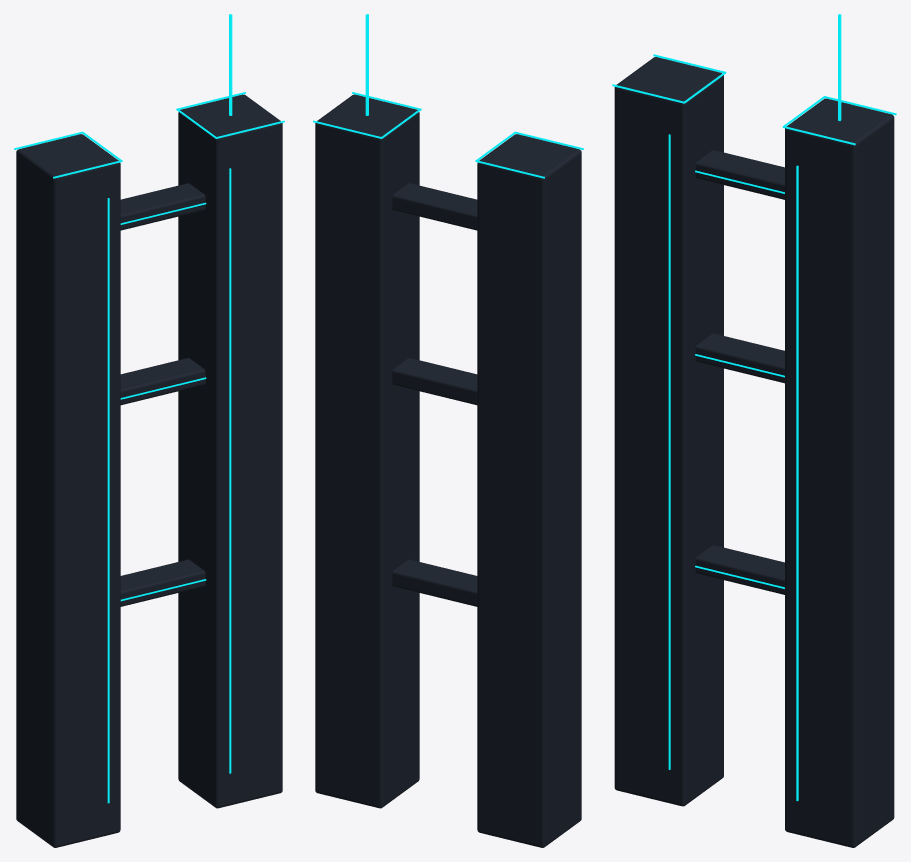
File: Twins.glb
The picture shows the model from 3 angles, left to right: view 1: azimuth 30°, elevation 25°; view 2: azimuth 150°, elevation 25°; view 3: azimuth 330°, elevation 25°; orthographic projection. The views are drawn at different scales.
Visible parts, largest first — view 1: Twin_-1, Twin_1, Twin_Bridge2, Twin_Bridge0, Twin_Bridge1, Twin_Spine-1, Twin_Spine1; view 2: Twin_-1, Twin_1, Twin_Bridge2, Twin_Bridge0, Twin_Bridge1; view 3: Twin_1, Twin_-1, Twin_Bridge2, Twin_Bridge1, Twin_Bridge0, Twin_Spine1, Twin_Spine-1.
Part boxes in pixels (<box>): Twin_-1: <box>16,134,120,847</box>; Twin_1: <box>178,94,282,808</box>; Twin_Bridge2: <box>120,183,205,230</box>; Twin_Bridge0: <box>120,559,205,606</box>; Twin_Bridge1: <box>120,358,205,405</box>; Twin_Spine-1: <box>107,198,109,803</box>; Twin_Spine1: <box>229,168,231,773</box>; Twin_-1: <box>477,134,581,847</box>; Twin_1: <box>315,94,419,808</box>; Twin_Bridge2: <box>392,183,477,230</box>; Twin_Bridge0: <box>392,559,477,606</box>; Twin_Bridge1: <box>392,358,477,405</box>; Twin_1: <box>785,98,894,847</box>; Twin_-1: <box>614,57,723,806</box>; Twin_Bridge2: <box>695,150,784,199</box>; Twin_Bridge1: <box>695,333,784,383</box>; Twin_Bridge0: <box>695,545,784,594</box>; Twin_Spine1: <box>796,165,798,801</box>; Twin_Spine-1: <box>668,134,670,769</box>.
Size of the model in its own units: 34.2 by 109 by 10.28.
